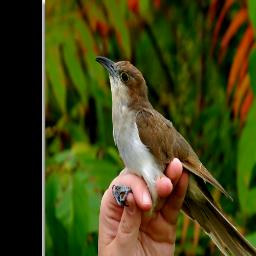Cuckoo: (94, 55, 256, 256)
